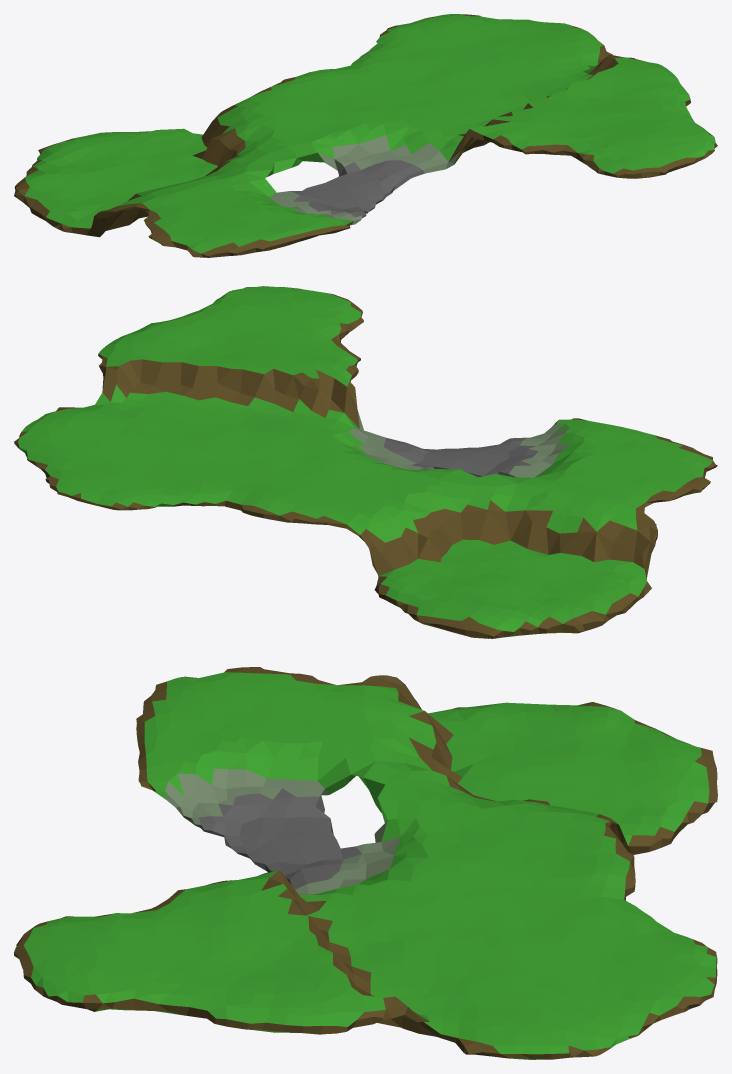
The model's file is map.fbx.
The picture shows the model from 3 angles, top to bottom: view 1: azimuth 30°, elevation 25°; view 2: azimuth 150°, elevation 25°; view 3: azimuth 270°, elevation 25°; orthographic projection. The views are drawn at different scales.
Visible parts, largest first — view 1: Plane; view 2: Plane; view 3: Plane.
Part boxes in pixels (left/top/right/bottom): Plane: left=14, top=14, right=717, bottom=257; Plane: left=14, top=286, right=717, bottom=638; Plane: left=14, top=667, right=717, bottom=1059.
Bounding box in the file's own units: 6143 × 779 × 4494.
